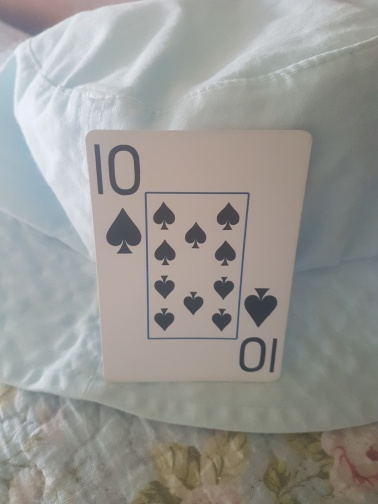ten: (86, 129, 314, 382)
